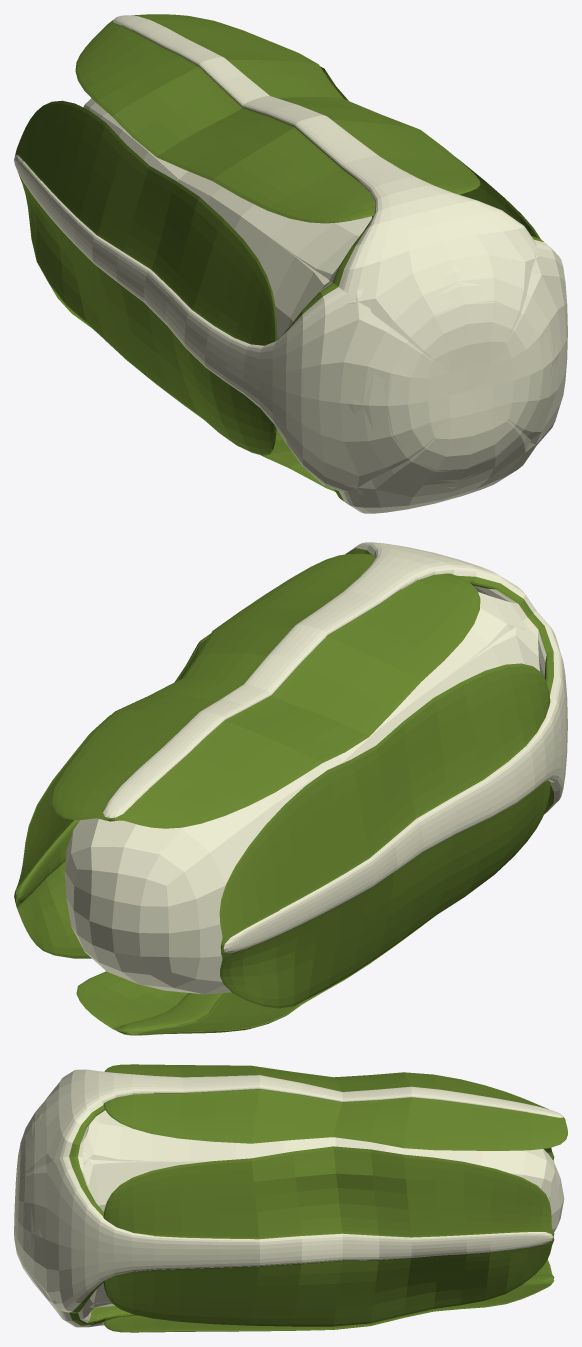
The model's file is Pechay.fbx.
The picture shows the model from 3 angles, top to bottom: view 1: azimuth 30°, elevation 25°; view 2: azimuth 150°, elevation 25°; view 3: azimuth 270°, elevation 25°; orthographic projection. The views are drawn at different scales.
Parts seen in each view (by area): view 1: Pechay; view 2: Pechay; view 3: Pechay.
Part boxes in pixels (bbox=[...]): Pechay: bbox=[14, 14, 567, 513]; Pechay: bbox=[14, 542, 567, 1035]; Pechay: bbox=[14, 1064, 567, 1332].
Bounding box in the file's own units: 28.07 × 27.34 × 57.23.
